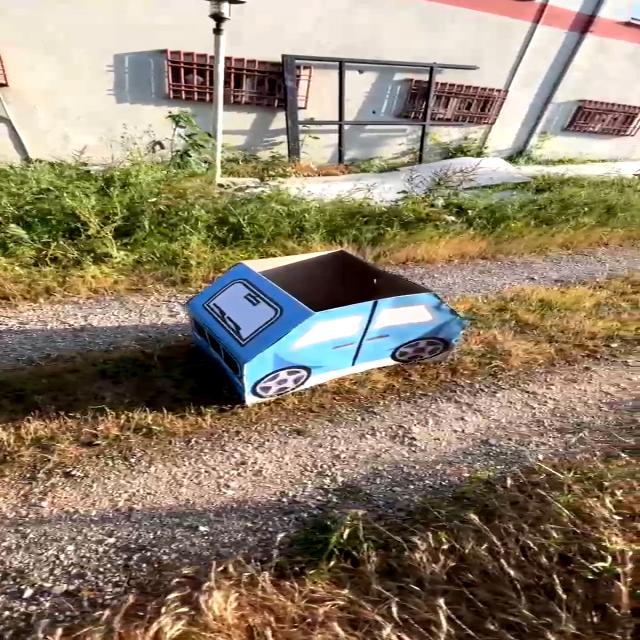blue_car: (100, 227, 526, 430)
